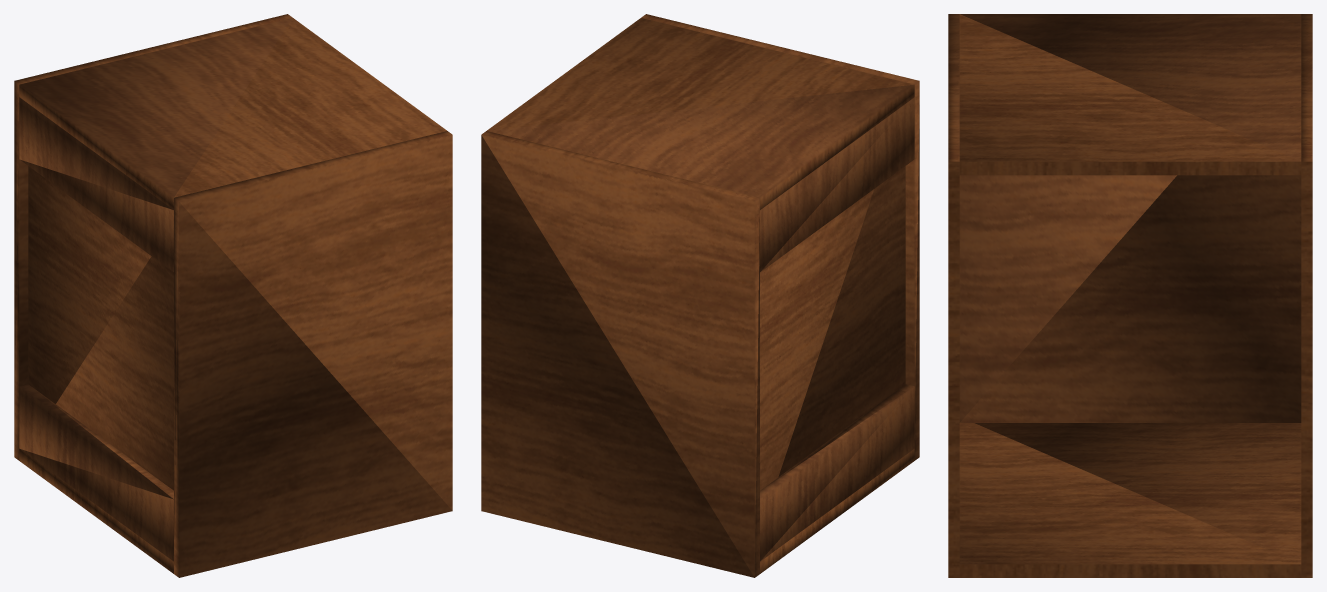
3 views of the same model, side by side, from view 1: azimuth 30°, elevation 25°; view 2: azimuth 150°, elevation 25°; view 3: azimuth 270°, elevation 25° (orthographic). The views are drawn at different scales.
Parts seen in each view (by area): view 1: visuals; view 2: visuals; view 3: visuals.
Boxes of the visible parts, x1,y1,x2,y2 form: visuals: (14,14,452,577); visuals: (481,14,919,577); visuals: (948,14,1312,577).
Size of the model in its own units: 0.4129 by 0.5426 by 0.4306.
Materials: 1 (1 with a texture image).
